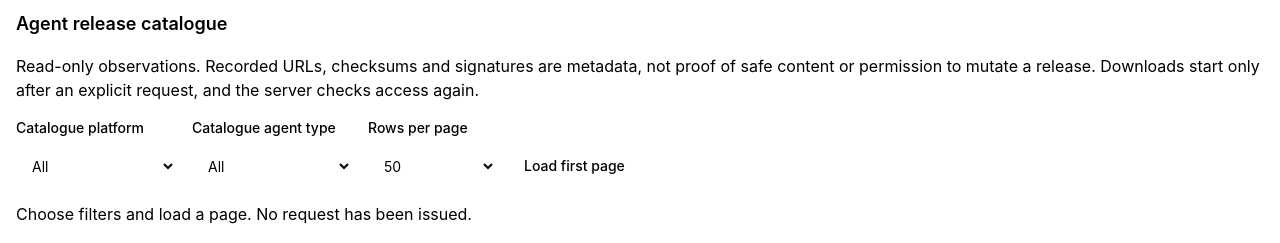
Test: refuses a duplicate-key wire body without rendering partial rows
The width and height of the screenshot is (1280, 243).
Click the button "Load first page". click: (574, 166)
box: [512,146,637,186]
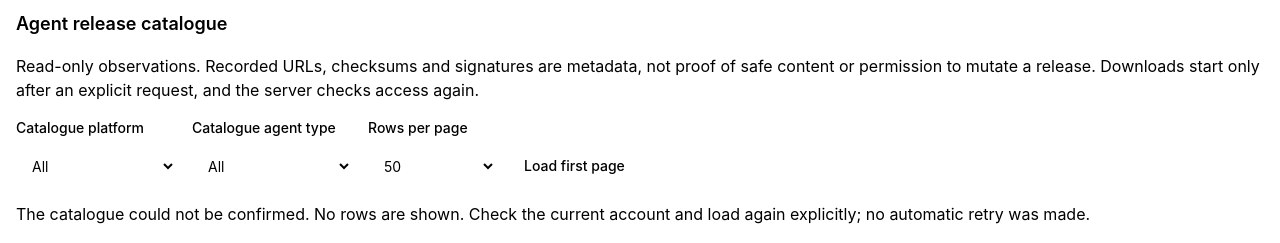
Now the message is shown, box [16,202,1264,226]
